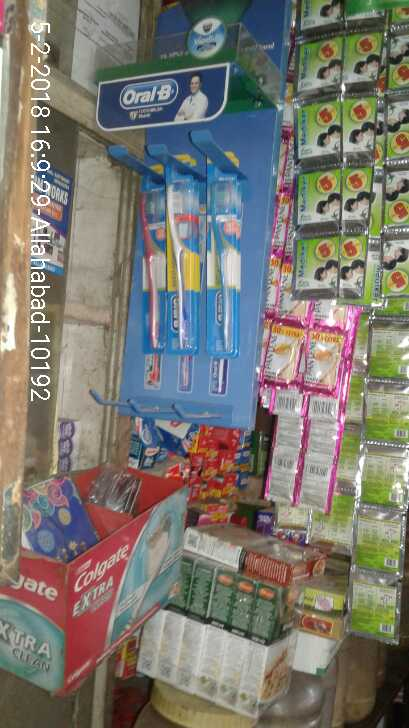oralb: (162, 152, 200, 355), (208, 155, 242, 352), (138, 164, 168, 352)
